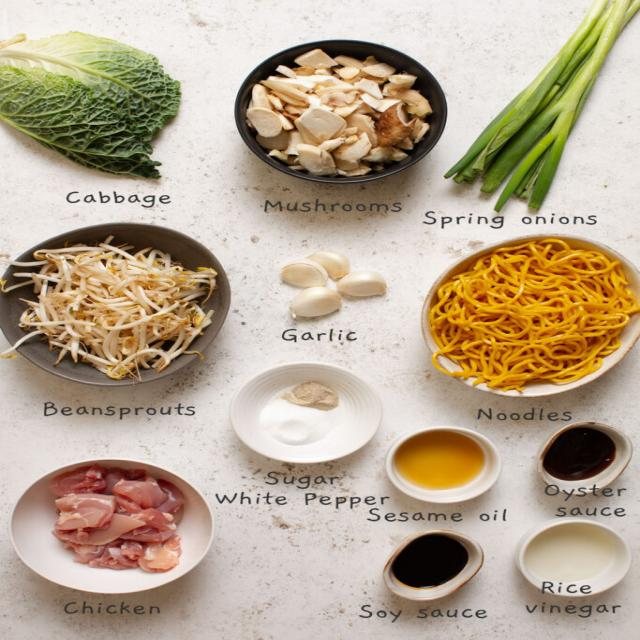Mushroom: (241, 46, 433, 180)
